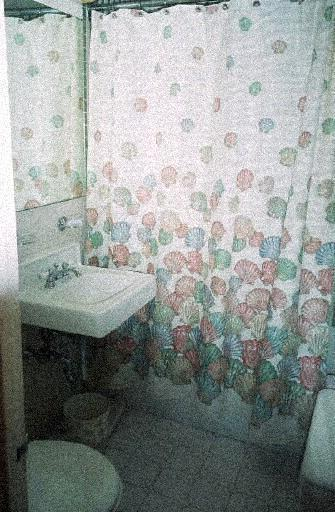Bote de Basura: (57, 387, 113, 437)
Ducha: (90, 18, 334, 399)
Lavamanos: (19, 247, 159, 347)
Sanitario: (28, 430, 124, 508)
